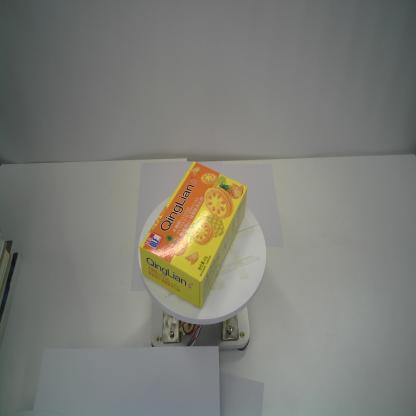Dessert: (136, 158, 248, 313)
